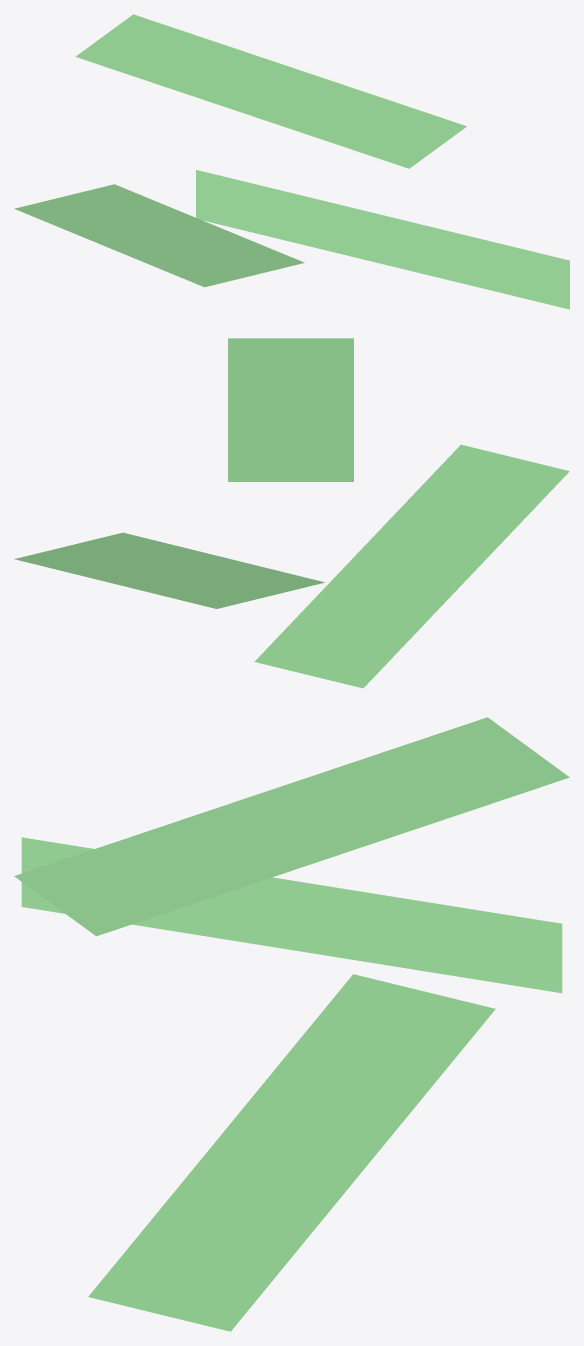
Rendered from env-grass.glb.
The picture shows the model from 3 angles, top to bottom: view 1: azimuth 30°, elevation 25°; view 2: azimuth 150°, elevation 25°; view 3: azimuth 270°, elevation 25°; orthographic projection. The views are drawn at different scales.
Parts seen in each view (by area): view 1: Env_Grass_Blade_1, Env_Grass_Blade_2, Env_Grass_Blade_0; view 2: Env_Grass_Blade_0, Env_Grass_Blade_1, Env_Grass_Blade_2; view 3: Env_Grass_Blade_2, Env_Grass_Blade_1, Env_Grass_Blade_0.
Boxes of the visible parts, box(x1,y1,x2,y2) form: Env_Grass_Blade_1: box(75, 14, 466, 168); Env_Grass_Blade_2: box(196, 170, 569, 309); Env_Grass_Blade_0: box(14, 184, 304, 287); Env_Grass_Blade_0: box(254, 444, 569, 688); Env_Grass_Blade_1: box(228, 338, 353, 481); Env_Grass_Blade_2: box(14, 532, 325, 608); Env_Grass_Blade_2: box(88, 974, 495, 1331); Env_Grass_Blade_1: box(14, 717, 569, 936); Env_Grass_Blade_0: box(21, 837, 562, 993).
Size of the model in its own units: 0.0786 by 0.0404 by 0.0608.
